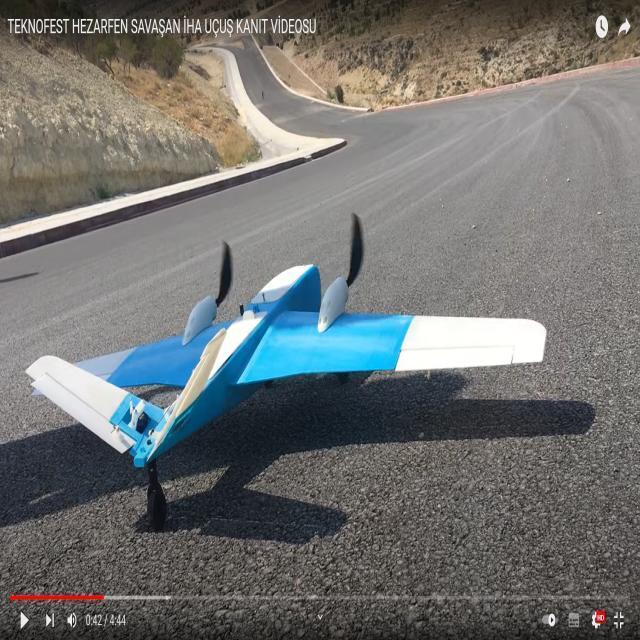UAV: (36, 246, 564, 520)
